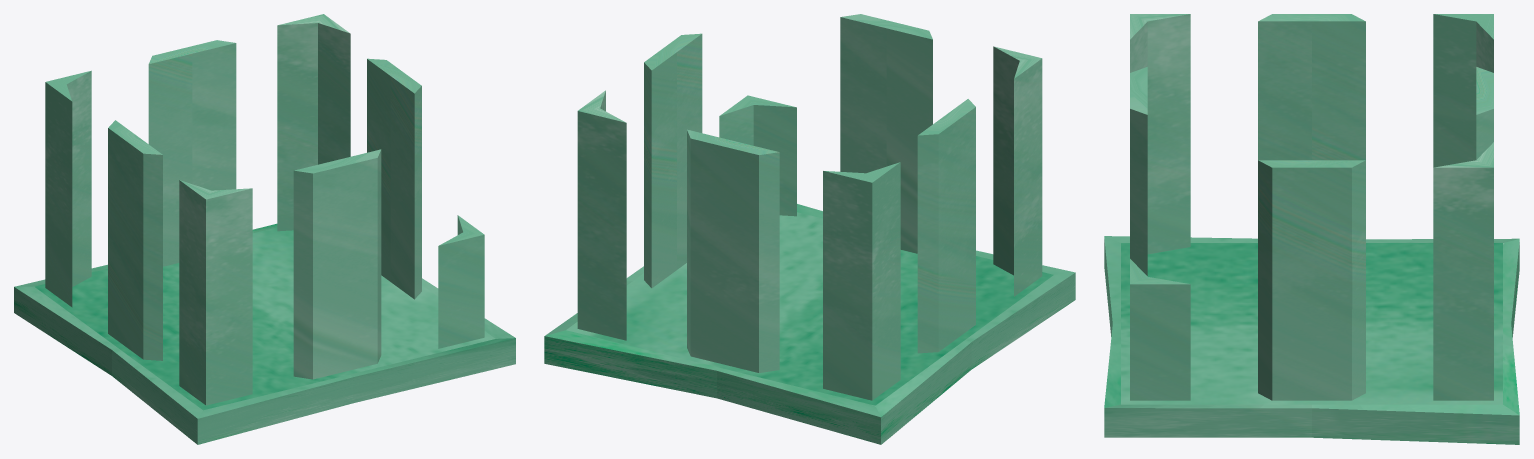
File: Jaula_close.glb
The picture shows the model from 3 angles, left to right: view 1: azimuth 30°, elevation 25°; view 2: azimuth 150°, elevation 25°; view 3: azimuth 270°, elevation 25°; orthographic projection. The views are drawn at different scales.
Parts seen in each view (by area): view 1: L_jaula_open.001; view 2: L_jaula_open.001; view 3: L_jaula_open.001.
Part boxes in pixels (x1,y1,x2,y2): L_jaula_open.001: (14, 14, 515, 444); L_jaula_open.001: (544, 14, 1075, 444); L_jaula_open.001: (1104, 14, 1519, 444).
Bounding box in the file's own units: 2.38 × 1.68 × 2.38.
Materials: 1 (1 with a texture image).
